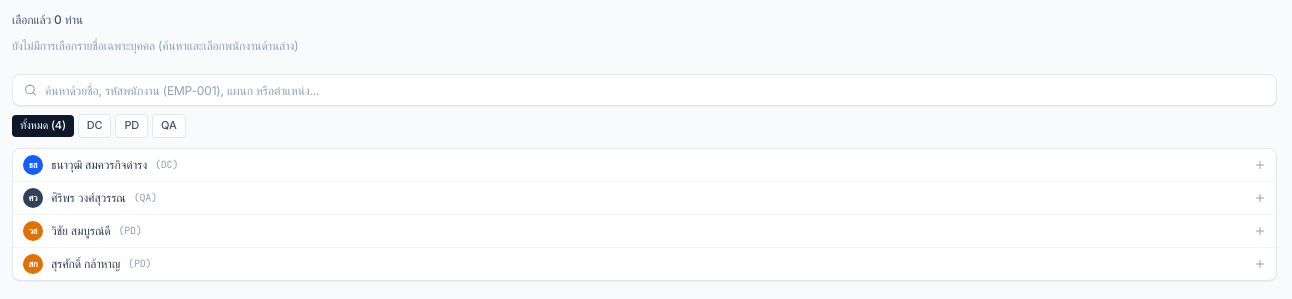
Test: Restricted Document Access & Member Picker Redesign › filters member directory by search input and department filter chips
The image size is (1292, 299).
Expected: the text "ธนาวุฒิ สมควรกิจดำรง" is shown, [51, 157, 147, 173]
Expected: the text "วิชัย สมบูรณ์ดี" is shown, [51, 223, 110, 239]
// Department filter chip click: 'QA'
Click the button "QA".
click(169, 126)  # box [152, 114, 186, 138]
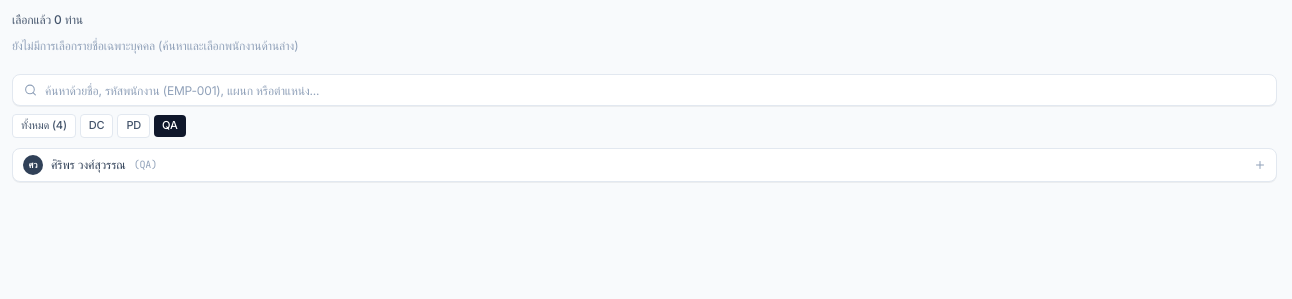
Expected: the text "ศิริพร วงศ์สุวรรณ" is shown, [51, 157, 126, 173]
Now the button "วิชัย สมบูรณ์ดี" is gone
// Click back to All
Click the button "ทั้งหมด (4)".
click(44, 126)  # box [12, 114, 76, 138]
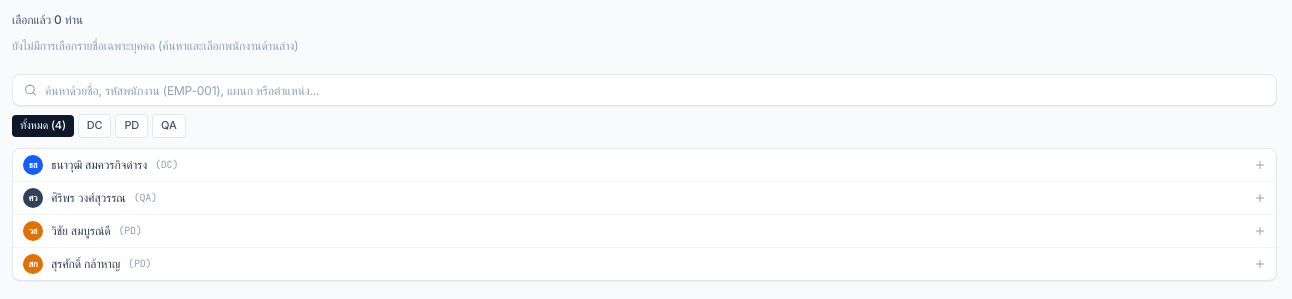
Now the text "วิชัย สมบูรณ์ดี" is shown, box [51, 223, 110, 239]
// Search filter
Type "วิชัย" into the field with placeholder "ค้นหาด้วยชื่อ, รหัสพนักงาน (EMP-001), แผนก หรือตำแหน่ง...".
click(644, 90); type("วิชัย")  # box [12, 74, 1277, 106]
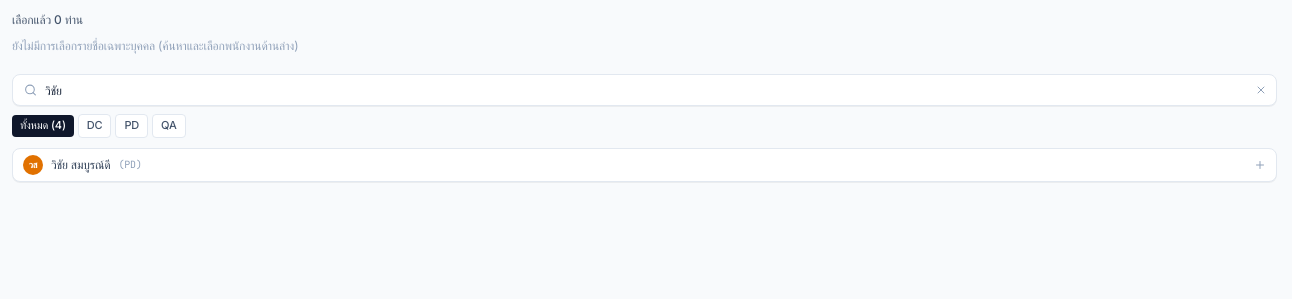
Now the text "วิชัย สมบูรณ์ดี" is shown, box [51, 157, 110, 173]
Now the button "ธนาวุฒิ สมควรกิจดำรง" is gone
